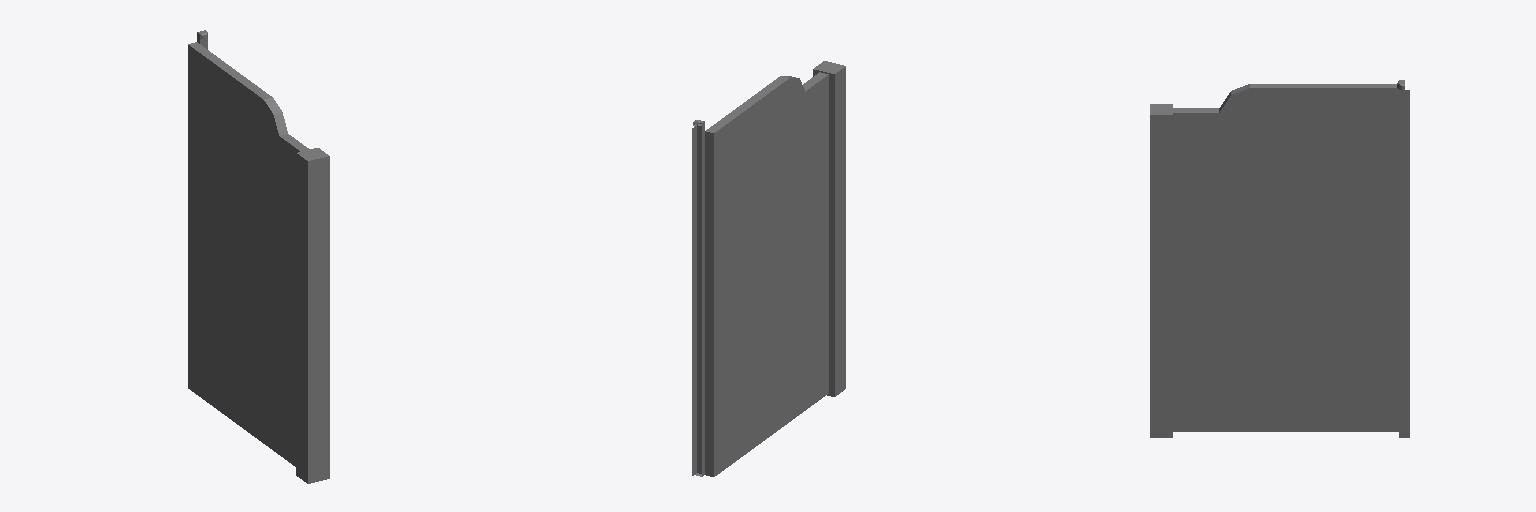
Rendered from Puerta1A.obj.
The picture shows the model from 3 angles: view 1: azimuth 30°, elevation 25°; view 2: azimuth 150°, elevation 25°; view 3: azimuth 270°, elevation 25°; orthographic projection.
Visible parts, largest first — view 1: Cube.000_Cube.002; view 2: Cube.000_Cube.002; view 3: Cube.000_Cube.002.
Boxes of the visible parts, x1=… form: Cube.000_Cube.002: x1=188, y1=30, x2=329, y2=483; Cube.000_Cube.002: x1=692, y1=61, x2=845, y2=476; Cube.000_Cube.002: x1=1150, y1=80, x2=1409, y2=437.
Bounding box in the file's own units: 0.02 × 0.2585 × 0.172.